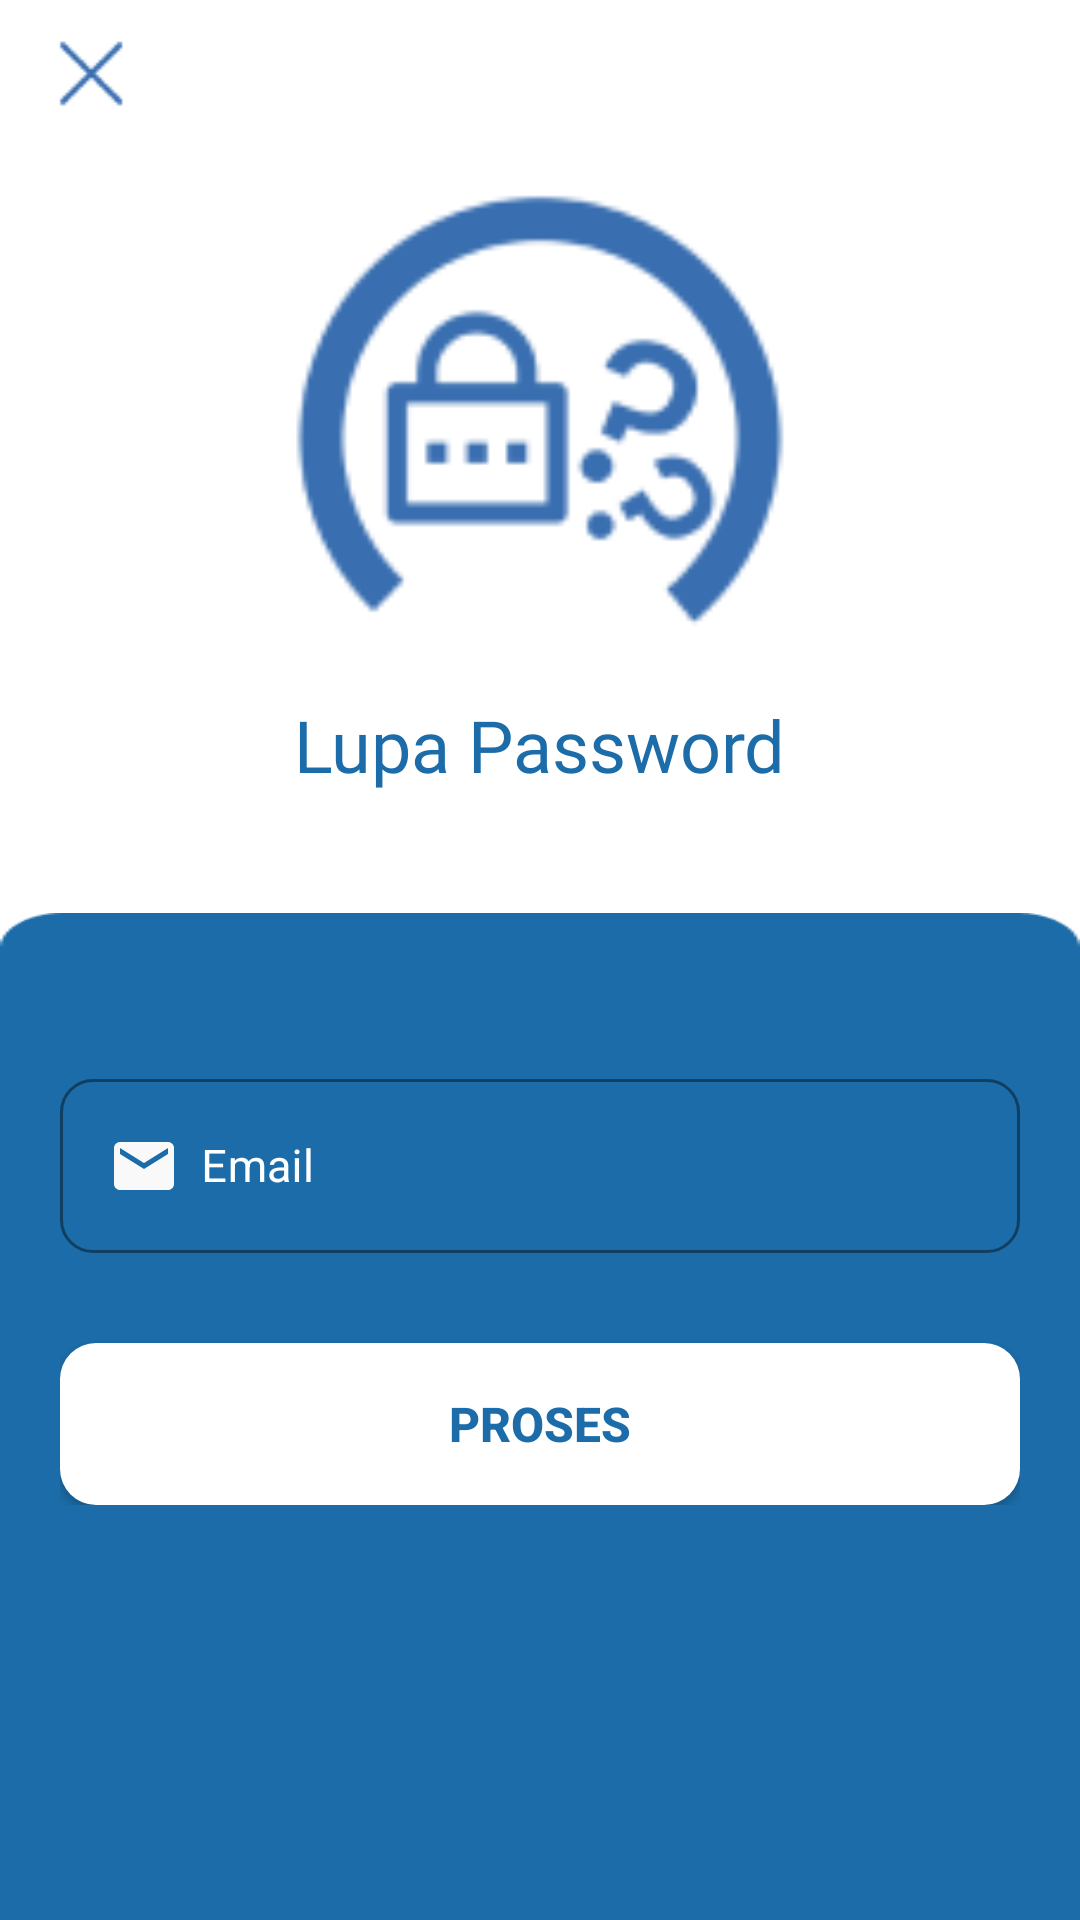

Named icons in this screenshot (1080 × 1920) and their bounding boxes, [x1=x1, y1=y1, x2=x2, y2=y2]:
cross cancel: [x1=60, y1=41, x2=123, y2=106]
